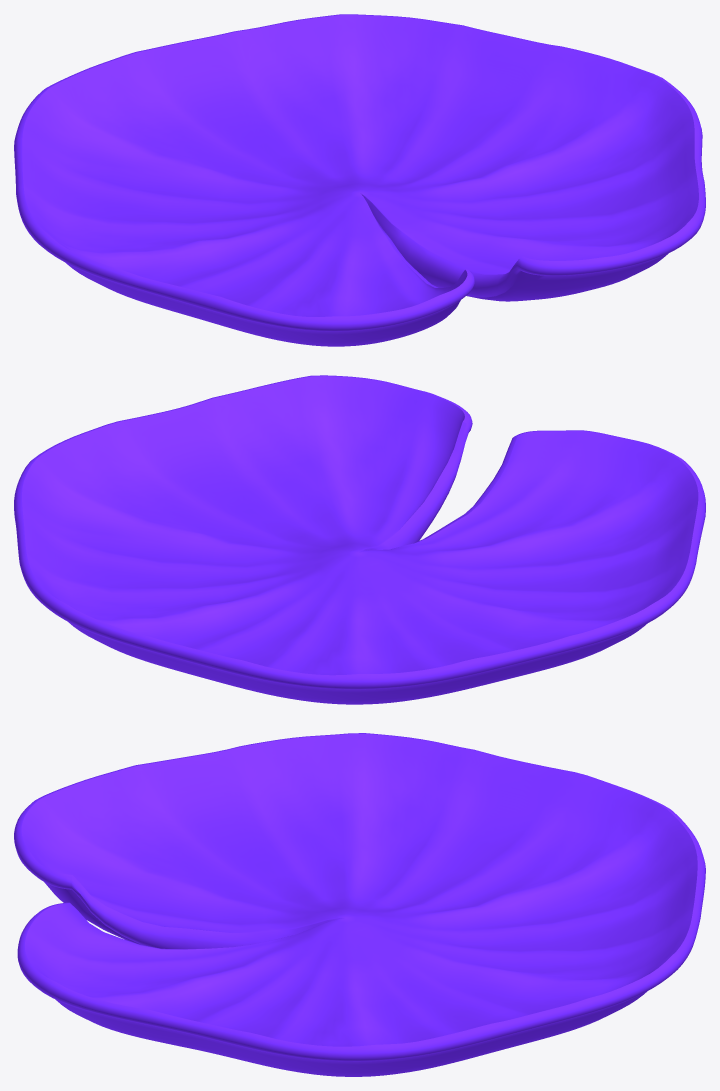
File: LilyPad_Purple.glb
3 renders of one model, top to bottom at view 1: azimuth 30°, elevation 25°; view 2: azimuth 150°, elevation 25°; view 3: azimuth 270°, elevation 25°, orthographic. The views are drawn at different scales.
Visible parts, largest first — view 1: LilyPad_Purple; view 2: LilyPad_Purple; view 3: LilyPad_Purple.
Boxes of the visible parts, x1=… form: LilyPad_Purple: x1=14, y1=14, x2=705, y2=346; LilyPad_Purple: x1=14, y1=375, x2=705, y2=704; LilyPad_Purple: x1=14, y1=733, x2=705, y2=1076.
Bounding box in the file's own units: 2 × 0.3388 × 1.84.
